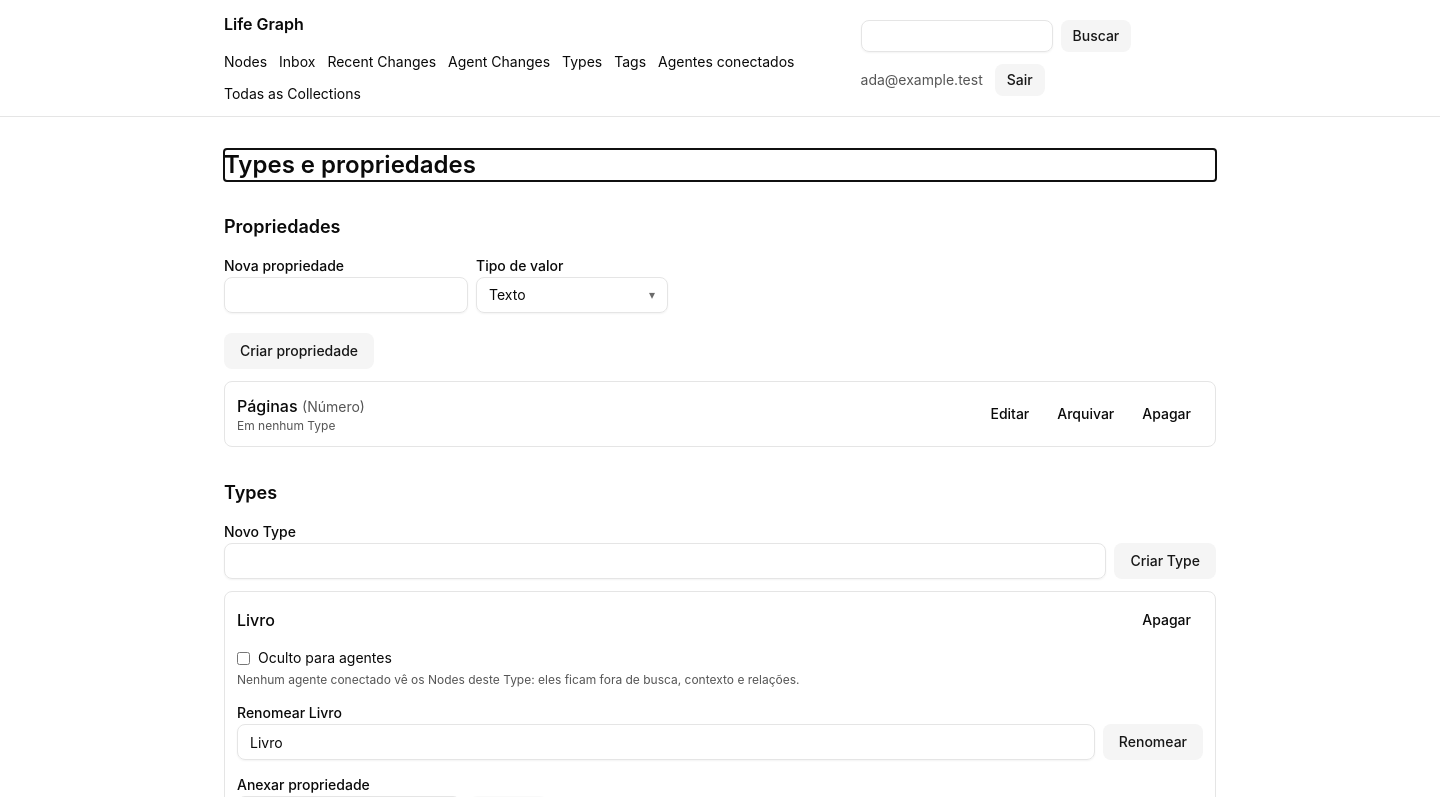
Test: types and properties › offers every value kind when no Node holds a value
Click the button with aria-label "Editar Páginas": (1010, 414) [978,398,1041,430]
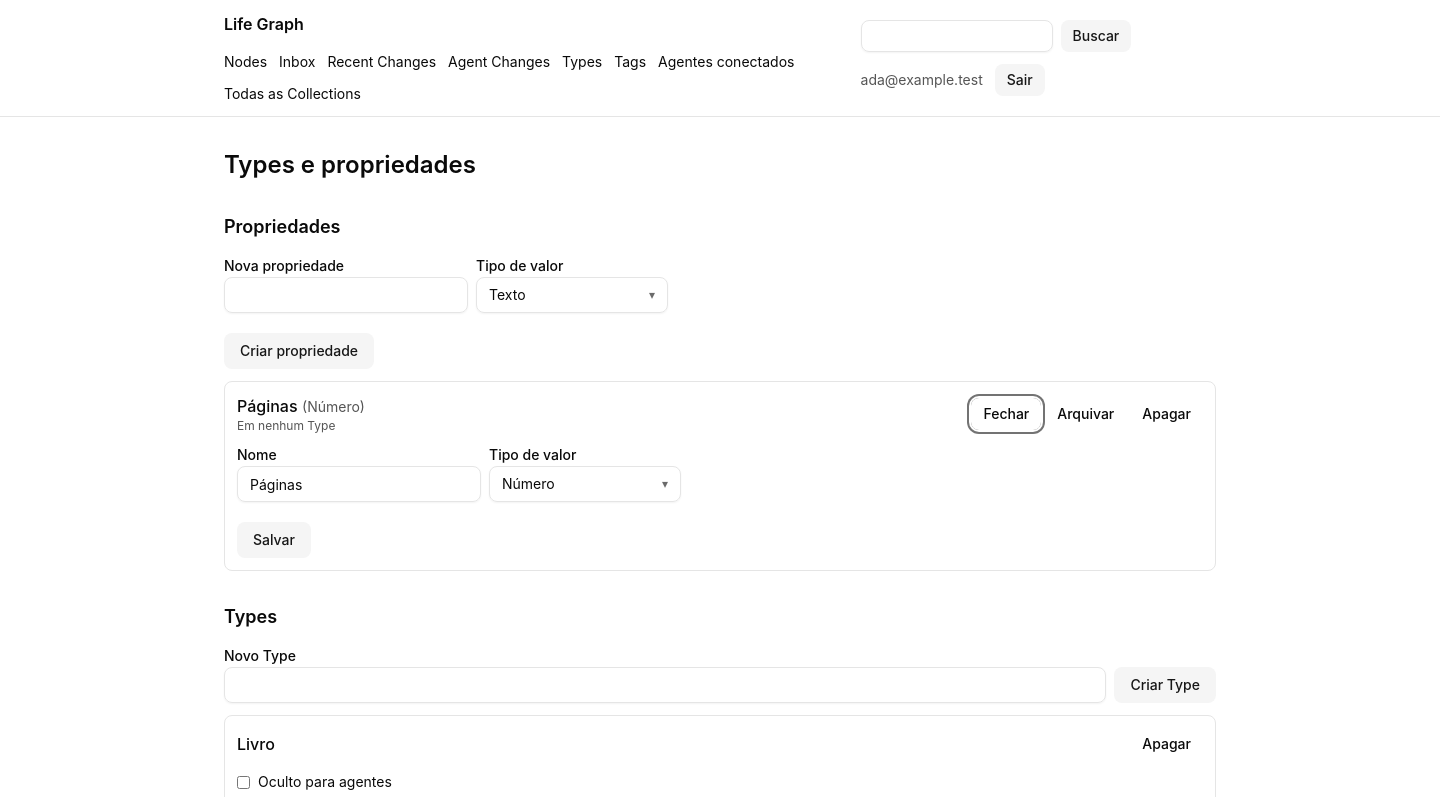
Click the dropdown named "Tipo de valor": (585, 484) [489,466,681,502]
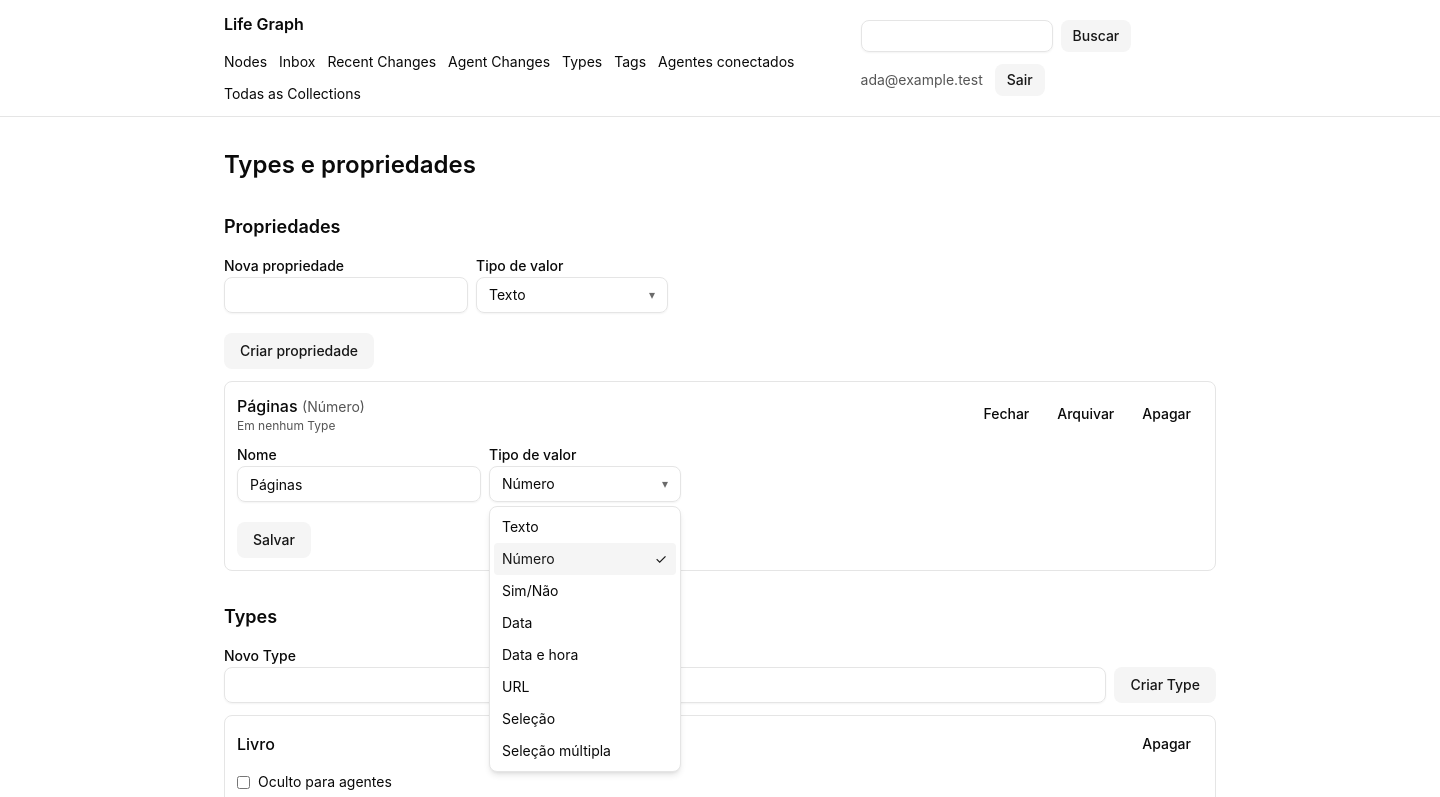
Check: the number of options is 8
